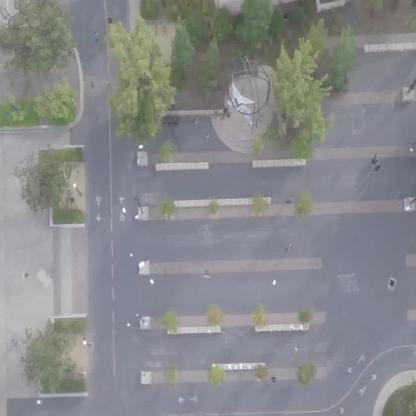Bicyclist: (264, 374, 280, 389), (373, 162, 384, 180), (371, 151, 382, 165)
Pedestrian: (282, 189, 300, 214), (91, 25, 107, 48), (280, 240, 298, 259), (202, 129, 221, 146), (187, 111, 202, 130), (210, 107, 224, 127), (225, 107, 233, 126)
